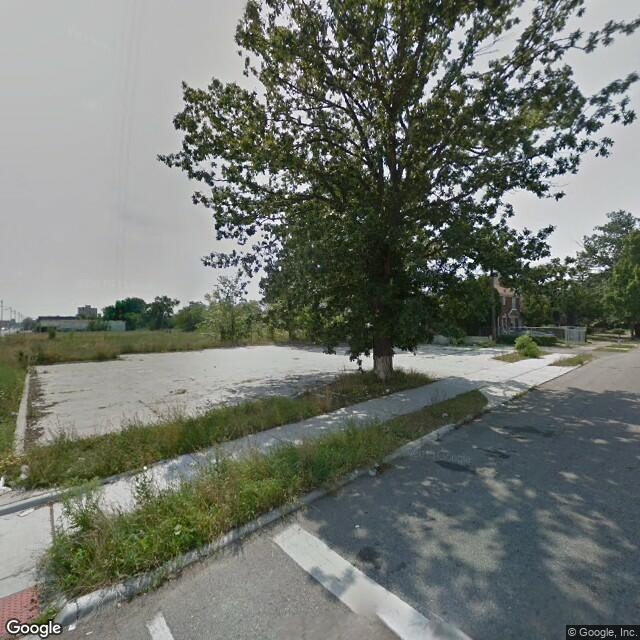litter: (437, 403, 453, 420), (171, 521, 186, 538), (64, 619, 83, 631), (367, 460, 378, 480), (383, 386, 397, 393)
